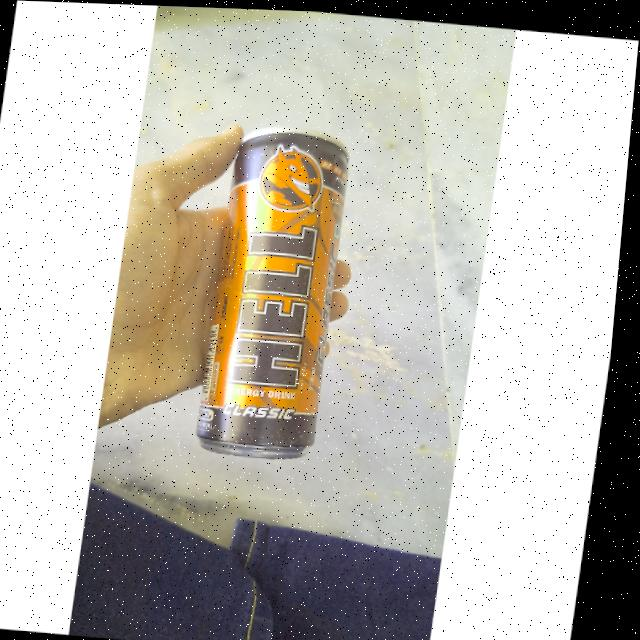Hell Classic: (197, 115, 358, 468)
